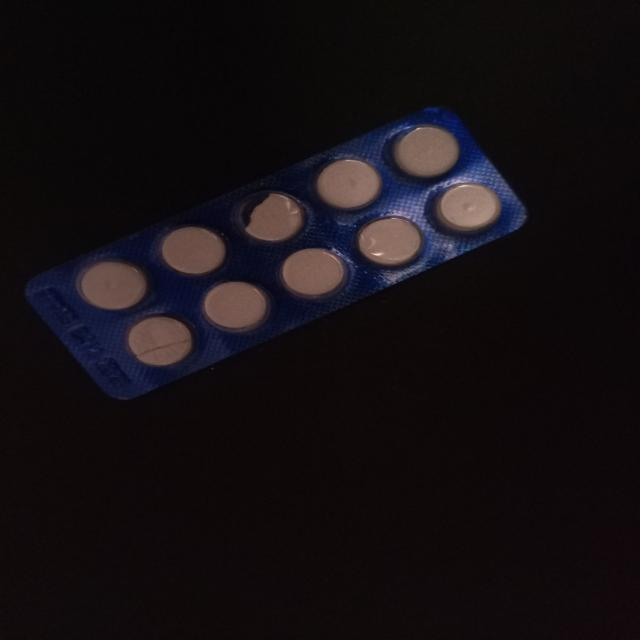defect: (122, 312, 199, 370), (233, 190, 309, 244)
